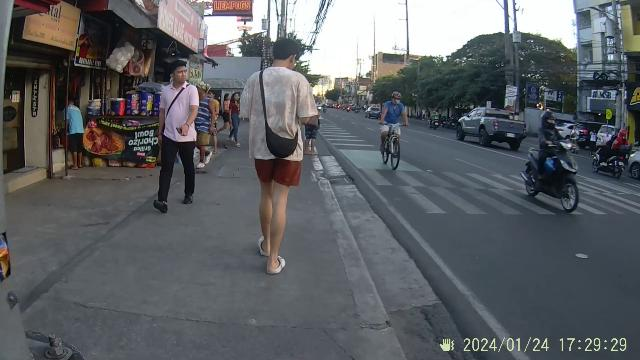motorcycle: (519, 131, 581, 214)
street_vendor_cart: (86, 86, 164, 170)
utility_post: (394, 0, 414, 68)
